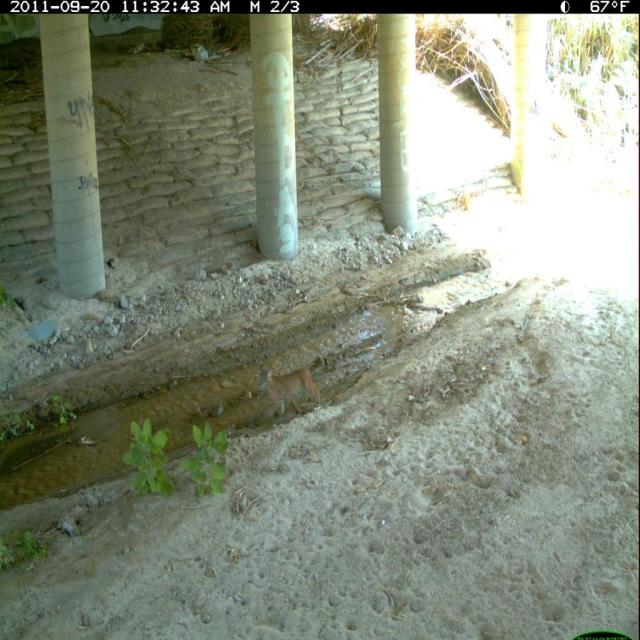bobcat: (254, 357, 325, 427)
